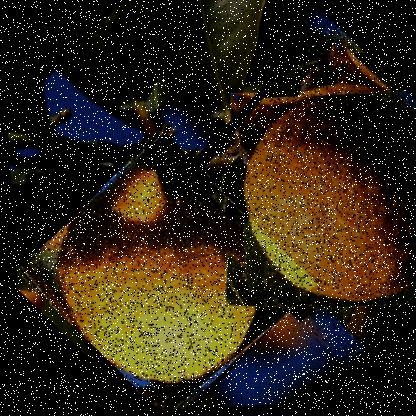lemon: (150, 17, 415, 380), (6, 125, 317, 415)
